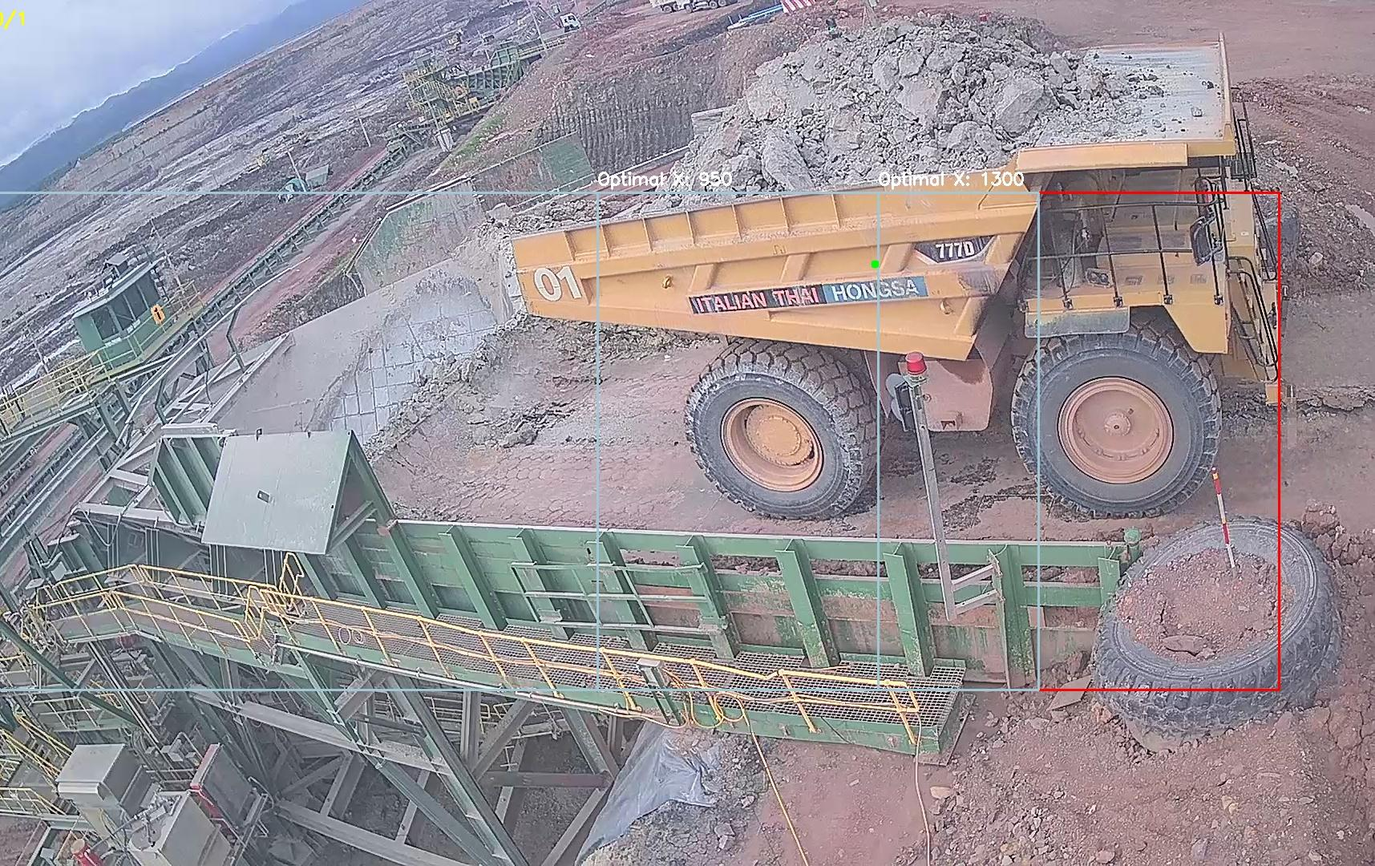company: (680, 274, 936, 320)
full_load: (725, 7, 1055, 192)
mining_truck: (499, 0, 1306, 521)
tail_number: (525, 258, 598, 318)
truck_size: (914, 229, 1000, 271)
